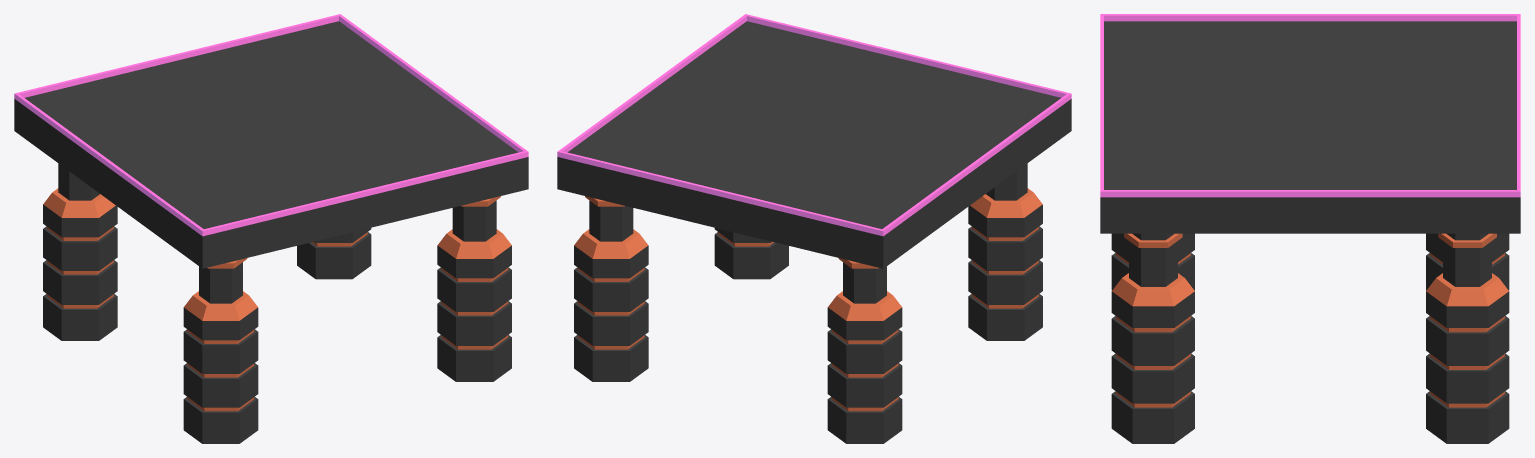
Rendered from 1x1_Foundation_002.fbx.
3 renders of one model, left to right at view 1: azimuth 30°, elevation 25°; view 2: azimuth 150°, elevation 25°; view 3: azimuth 270°, elevation 25°, orthographic. The views are drawn at different scales.
Parts seen in each view (by area): view 1: 1x1_Foundation.002; view 2: 1x1_Foundation.002; view 3: 1x1_Foundation.002.
Boxes of the visible parts, x1=… form: 1x1_Foundation.002: x1=14, y1=14, x2=528, y2=443; 1x1_Foundation.002: x1=557, y1=14, x2=1071, y2=443; 1x1_Foundation.002: x1=1100, y1=14, x2=1520, y2=443.
Bounding box in the file's own units: 20000 × 13294 × 20000.
